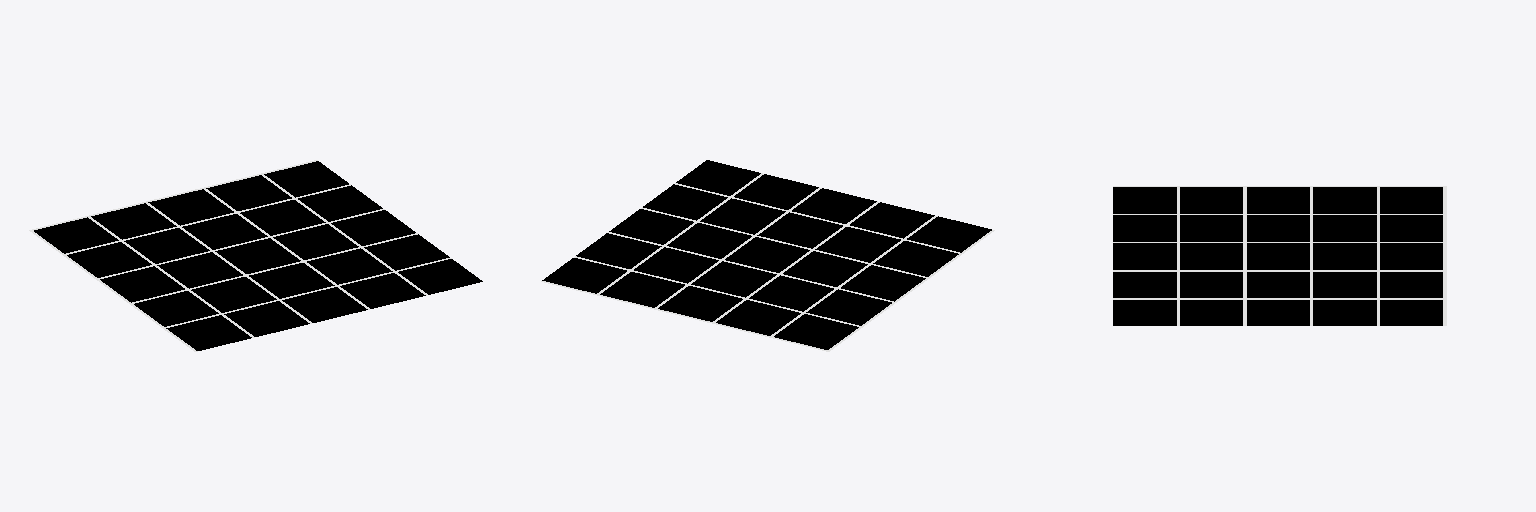
3 views of the same model, side by side, from view 1: azimuth 30°, elevation 25°; view 2: azimuth 150°, elevation 25°; view 3: azimuth 270°, elevation 25° (orthographic).
Parts seen in each view (by area): view 1: Plane; view 2: Plane; view 3: Plane.
Part boxes in pixels (bbox=[...]): Plane: bbox=[29, 160, 482, 351]; Plane: bbox=[541, 160, 994, 351]; Plane: bbox=[1113, 186, 1446, 325].
Size of the model in its own units: 2 by 0 by 2.
Materials: 1 (1 with a texture image).